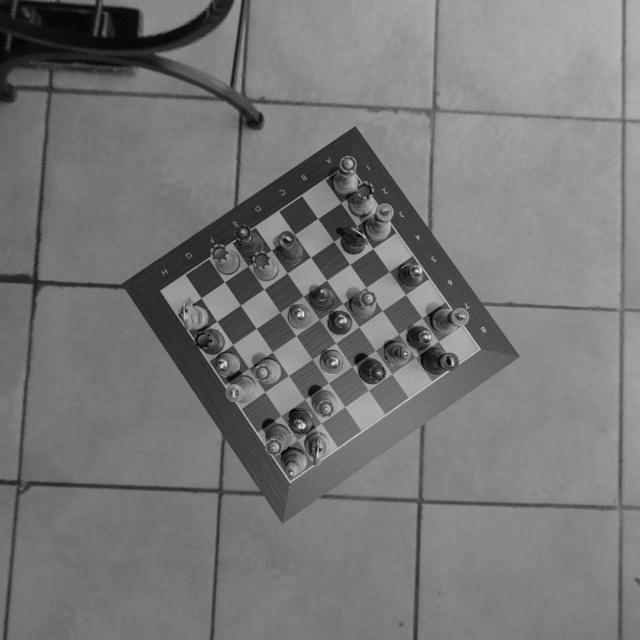chessboard: (161, 163, 480, 482)
